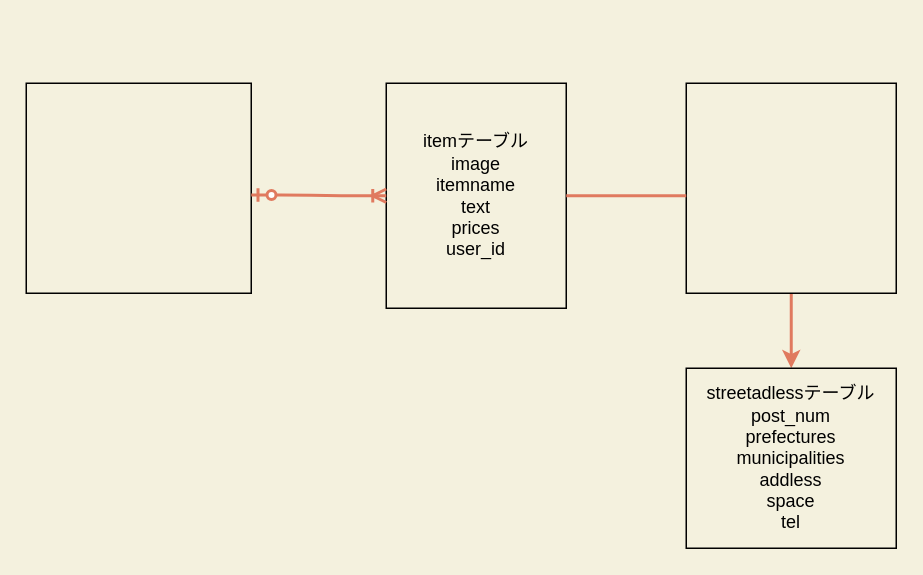
Image size: 923x575. Some labels were removed from this diagram. Each missing label, with the centre of its shape:
"payテーブル users_id item_id" belongs at point 790,187.
"userテーブル nickname password name kana baith" belongs at point 138,187.
